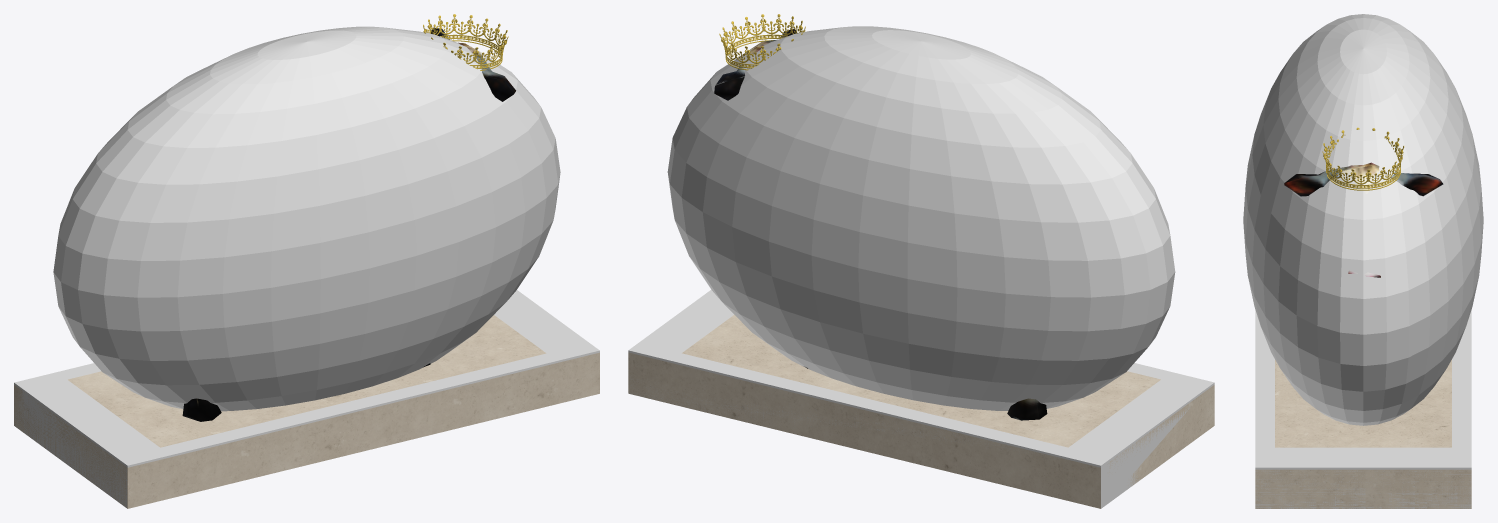
Rendered from Cow.gltf.
The picture shows the model from 3 angles, left to right: view 1: azimuth 30°, elevation 25°; view 2: azimuth 150°, elevation 25°; view 3: azimuth 270°, elevation 25°; orthographic projection. The views are drawn at different scales.
Parts seen in each view (by area): view 1: COL.001, Cube, COL, 13452_DiamondCrown, Cow_Low_Poly; view 2: COL.001, Cube, COL, 13452_DiamondCrown, Cow_Low_Poly; view 3: COL.001, Cube, COL, Cow_Low_Poly, 13452_DiamondCrown.
Boxes of the visible parts, x1,y1,x2,y2 form: COL.001: (53, 26, 560, 411); Cube: (14, 315, 599, 508); COL: (14, 290, 599, 508); 13452_DiamondCrown: (423, 14, 508, 70); Cow_Low_Poly: (182, 27, 515, 421); COL.001: (667, 26, 1175, 410); Cube: (628, 314, 1214, 508); COL: (628, 289, 1214, 508); 13452_DiamondCrown: (719, 14, 805, 70); Cow_Low_Poly: (714, 28, 1047, 420); COL.001: (1243, 14, 1483, 425); Cube: (1255, 360, 1471, 508); COL: (1255, 310, 1471, 508); Cow_Low_Poly: (1284, 162, 1443, 277); 13452_DiamondCrown: (1322, 127, 1404, 190).
Bounding box in the file's own units: 4.5 × 3.22 × 2.
Materials: 3 (3 with a texture image).
